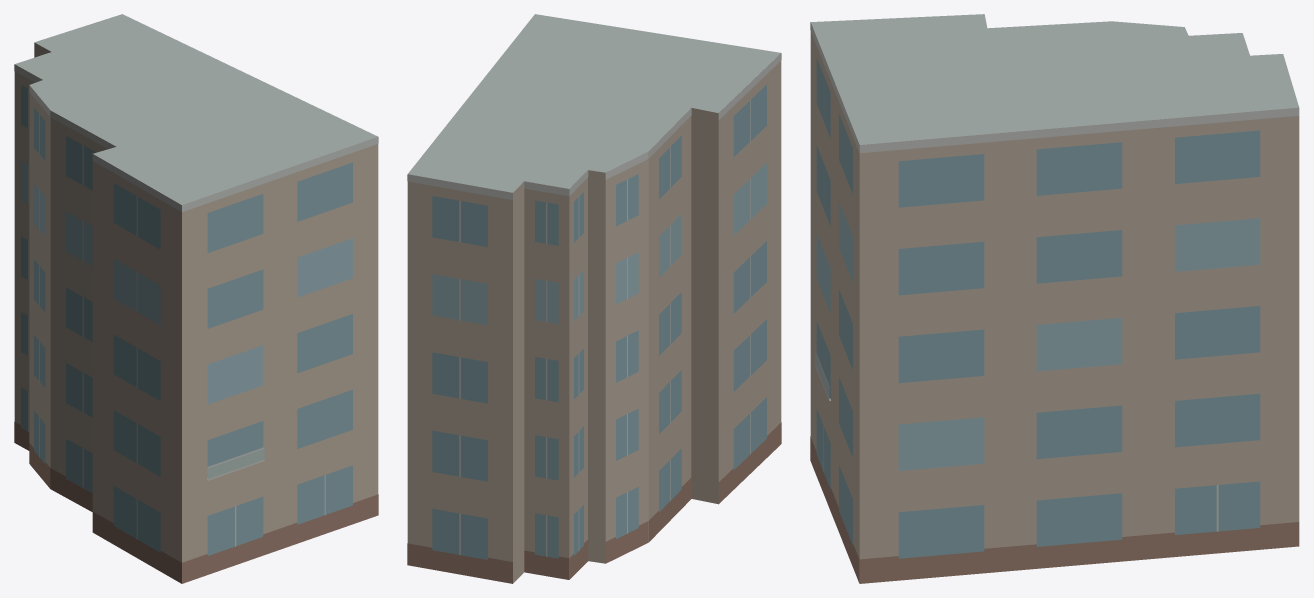
File: survey-upis-32814693.glb
The picture shows the model from 3 angles, left to right: view 1: azimuth 30°, elevation 25°; view 2: azimuth 150°, elevation 25°; view 3: azimuth 270°, elevation 25°; orthographic projection. The views are drawn at different scales.
Parts seen in each view (by area): view 1: survey-upis-32814693.tmp; view 2: survey-upis-32814693.tmp; view 3: survey-upis-32814693.tmp.
Part boxes in pixels (<box>): survey-upis-32814693.tmp: <box>14,14,378,583</box>; survey-upis-32814693.tmp: <box>407,14,781,583</box>; survey-upis-32814693.tmp: <box>810,14,1299,583</box>.
Bounding box in the file's own units: 8.4 × 13.1 × 13.23.
